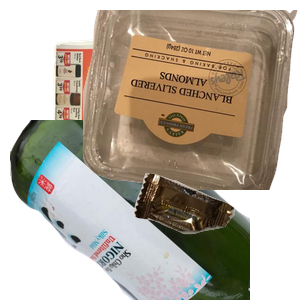glass: (10, 120, 250, 300)
paper: (51, 24, 291, 204)
plastic: (83, 10, 300, 190)
trash: (131, 171, 300, 300)
